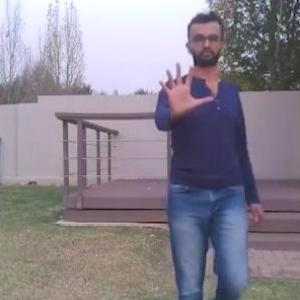follow_hand: (155, 57, 214, 116)
